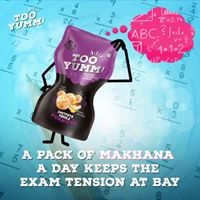plastic: (38, 41, 121, 127)
tooyumm: (64, 48, 104, 81), (8, 10, 45, 33)
wrapper: (52, 25, 105, 141)
